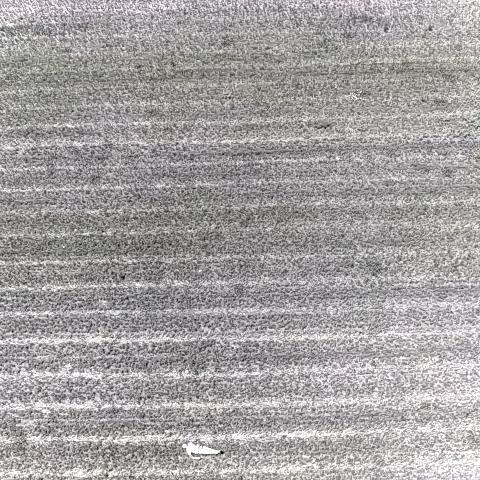person: (181, 441, 224, 460)
